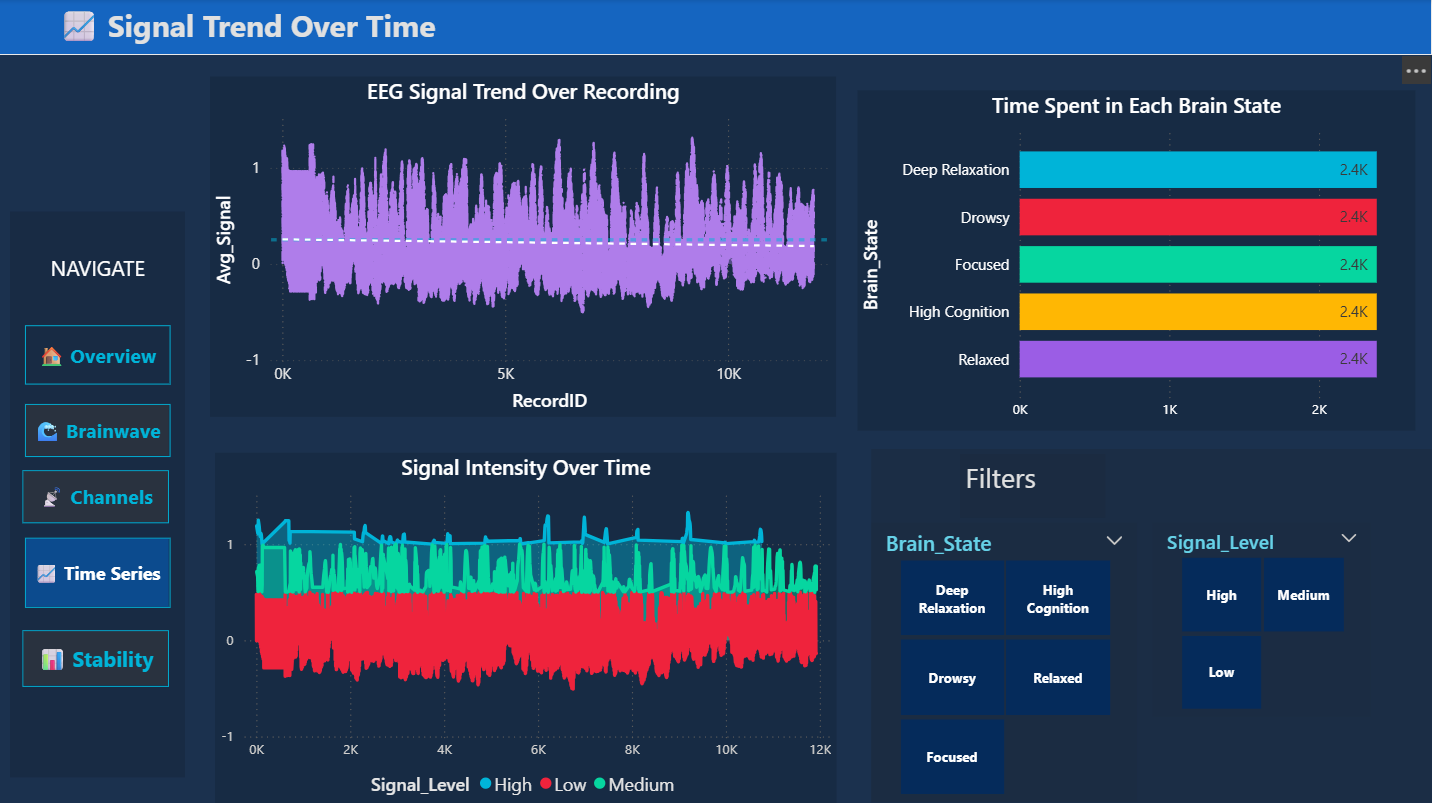

The page's visual inventory and layout, read from the dashboard file:
{"tool":"powerbi","page":{"name":"time series","canvas":[1280,720],"ordinal":3},"visuals":[{"type":"areaChart","title":"EEG Signal Trend Over Recording","fields":{"Category":["EEG_Data.RecordID"],"Y":["Intelligence.Avg_Signal"]},"box":[192,69.6,557.9,303.3],"z":0},{"type":"textbox","box":[0,0,1279.8,49.7],"z":1000},{"type":"areaChart","title":"Signal Intensity Over Time","fields":{"Category":["EEG_Data.RecordID"],"Y":["Intelligence.Avg_Signal"],"Series":["EEG_Data.Signal_Level"]},"box":[195.4,404.2,553.8,314.9],"z":2000},{"type":"clusteredBarChart","title":"Time Spent in Each Brain State","fields":{"Category":["EEG_Data.Brain_State"],"Y":["EEG_Data.Row_Count"]},"box":[767.6,80.9,497.1,302.9],"z":3000},{"type":"shape","box":[780.6,400.5,499.5,314.9],"z":4000},{"type":"textbox","box":[858.9,405.2,129.9,57.1],"z":5000},{"type":"slicer","fields":{"Values":["EEG_Data.Signal_Level"]},"box":[1030.3,466.9,194.2,172.5],"z":6000},{"type":"slicer","fields":{"Values":["EEG_Data.Brain_State"]},"box":[780.6,466.9,236.5,248.5],"z":7000},{"type":"shape","box":[13.4,189.2,155.8,504.3],"z":8000},{"type":"actionButton","box":[26.4,360.3,129.4,47.3],"z":9000},{"type":"actionButton","box":[25,420.2,130.8,47.3],"z":10000},{"type":"actionButton","box":[26.4,480,129.4,62.6],"z":11000},{"type":"actionButton","box":[25,562.1,130.8,50.1],"z":12000},{"type":"actionButton","box":[26.4,290.8,129.4,52.9],"z":13000},{"type":"textbox","box":[26.4,221.2,129.4,44.5],"z":14000}]}

Visuals, with their boxes on the page's 1280x720 design canvas (x1, y1, x2, y2). These are canvas units, not pixel positions in the 1432x803 screenshot, which may show the page scaled, cropped or inside an application window:
"EEG Signal Trend Over Recording" areaChart: x1=192 y1=70 x2=750 y2=373
textbox: x1=0 y1=0 x2=1280 y2=50
"Signal Intensity Over Time" areaChart: x1=195 y1=404 x2=749 y2=719
"Time Spent in Each Brain State" clusteredBarChart: x1=768 y1=81 x2=1265 y2=384
shape: x1=781 y1=400 x2=1280 y2=715
textbox: x1=859 y1=405 x2=989 y2=462
slicer - EEG_Data.Signal_Level: x1=1030 y1=467 x2=1224 y2=639
slicer - EEG_Data.Brain_State: x1=781 y1=467 x2=1017 y2=715
shape: x1=13 y1=189 x2=169 y2=694
actionButton: x1=26 y1=360 x2=156 y2=408
actionButton: x1=25 y1=420 x2=156 y2=468
actionButton: x1=26 y1=480 x2=156 y2=543
actionButton: x1=25 y1=562 x2=156 y2=612
actionButton: x1=26 y1=291 x2=156 y2=344
textbox: x1=26 y1=221 x2=156 y2=266
